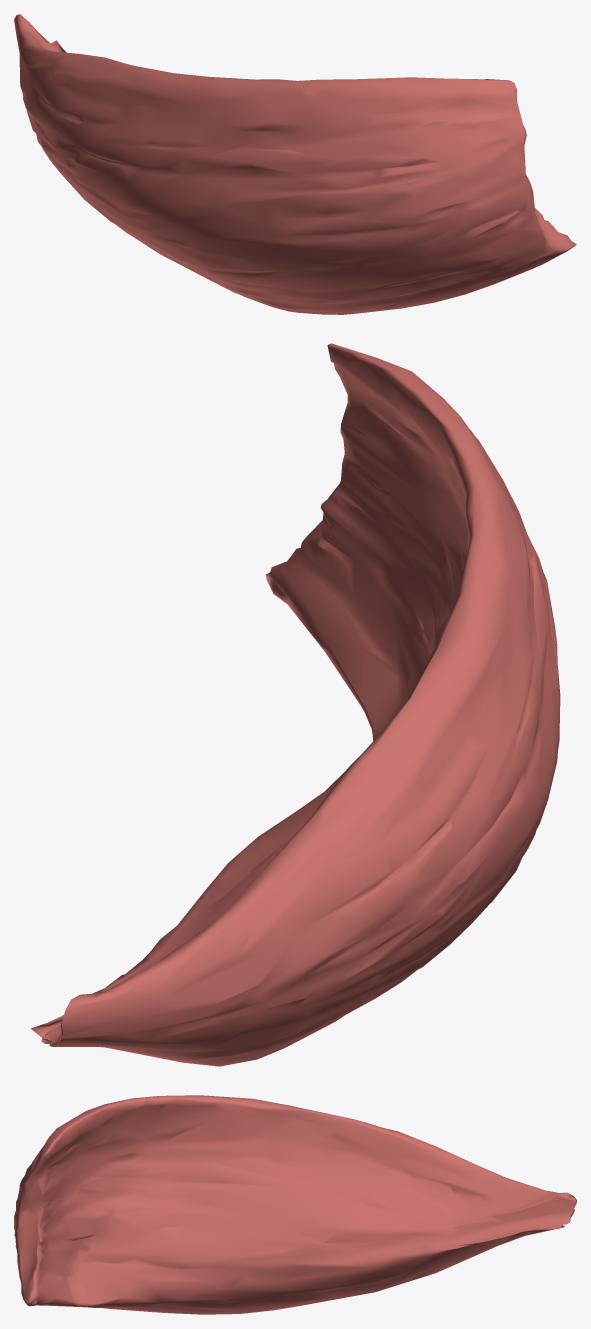
The picture shows the model from 3 angles, top to bottom: view 1: azimuth 30°, elevation 25°; view 2: azimuth 150°, elevation 25°; view 3: azimuth 270°, elevation 25°; orthographic projection. The views are drawn at different scales.
Parts seen in each view (by area): view 1: 右侧三角肌肩峰部; view 2: 右侧三角肌肩峰部; view 3: 右侧三角肌肩峰部.
Part boxes in pixels (x1=…): 右侧三角肌肩峰部: x1=14, y1=14, x2=576, y2=314; 右侧三角肌肩峰部: x1=31, y1=343, x2=560, y2=1066; 右侧三角肌肩峰部: x1=14, y1=1095, x2=576, y2=1314.
Bounding box in the file's own units: 0.1112 × 0.0934 × 0.2175.
